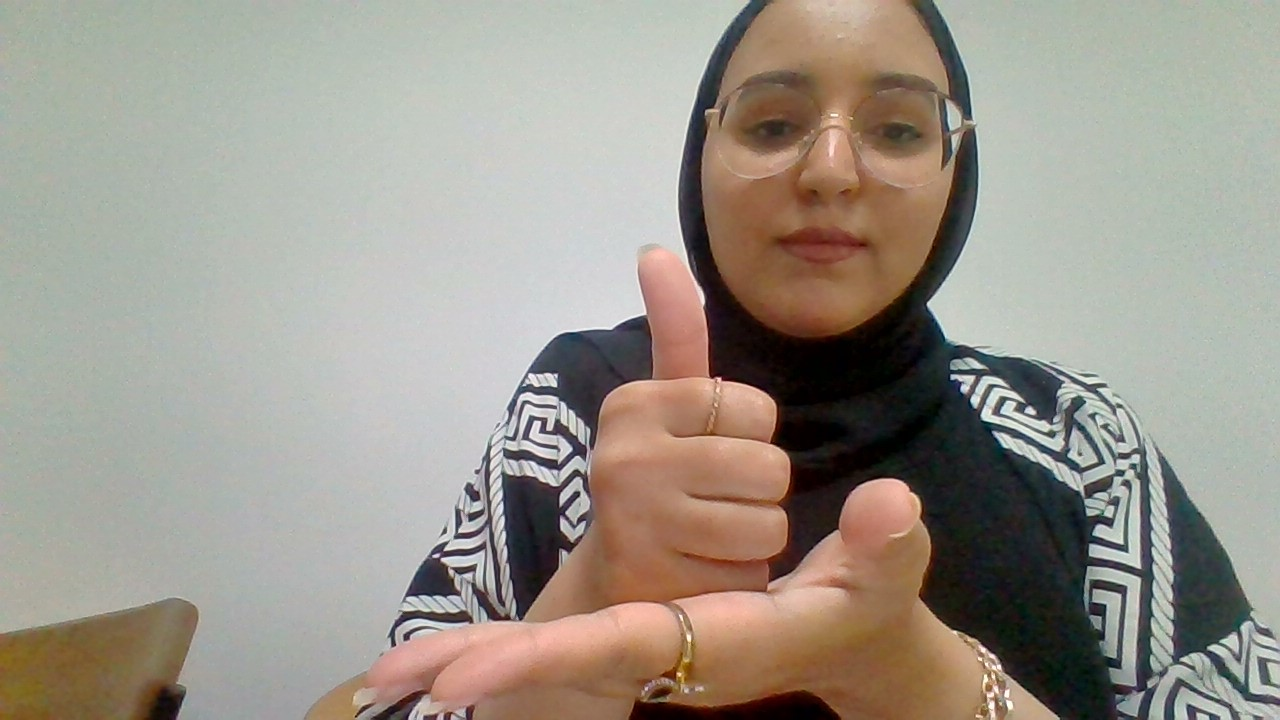help: (581, 235, 806, 612)
